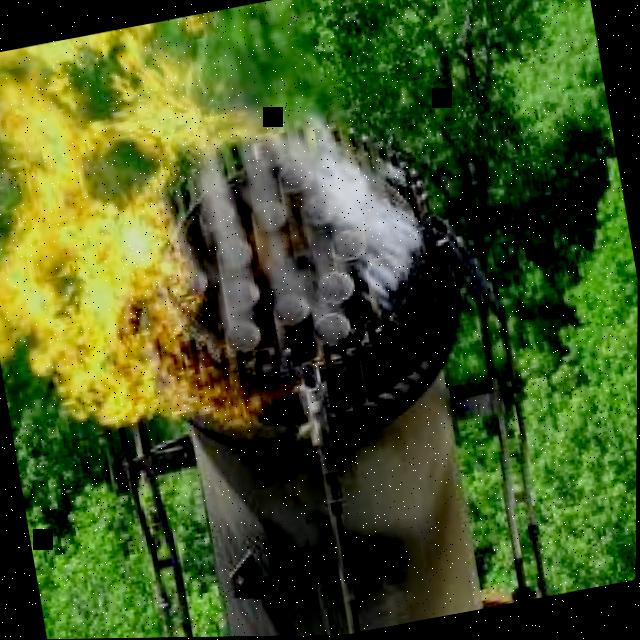fire: (0, 13, 296, 427)
